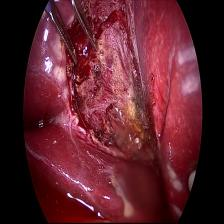Bipolar: (44, 2, 99, 65)
